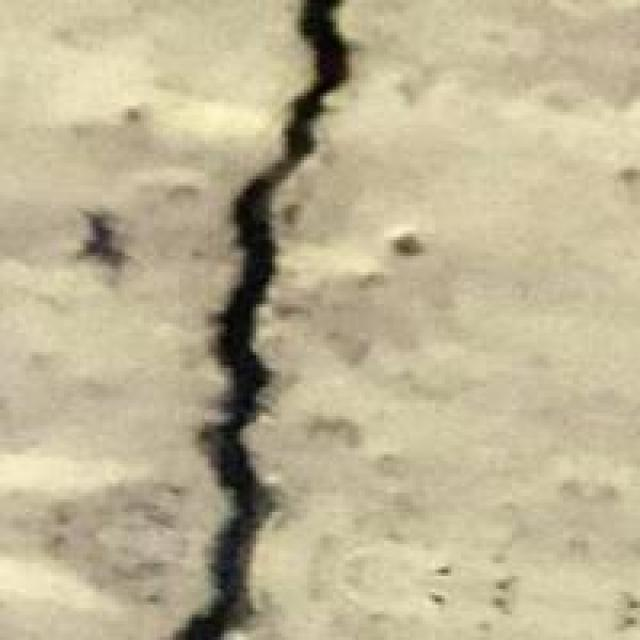Crack: (131, 0, 394, 637)
